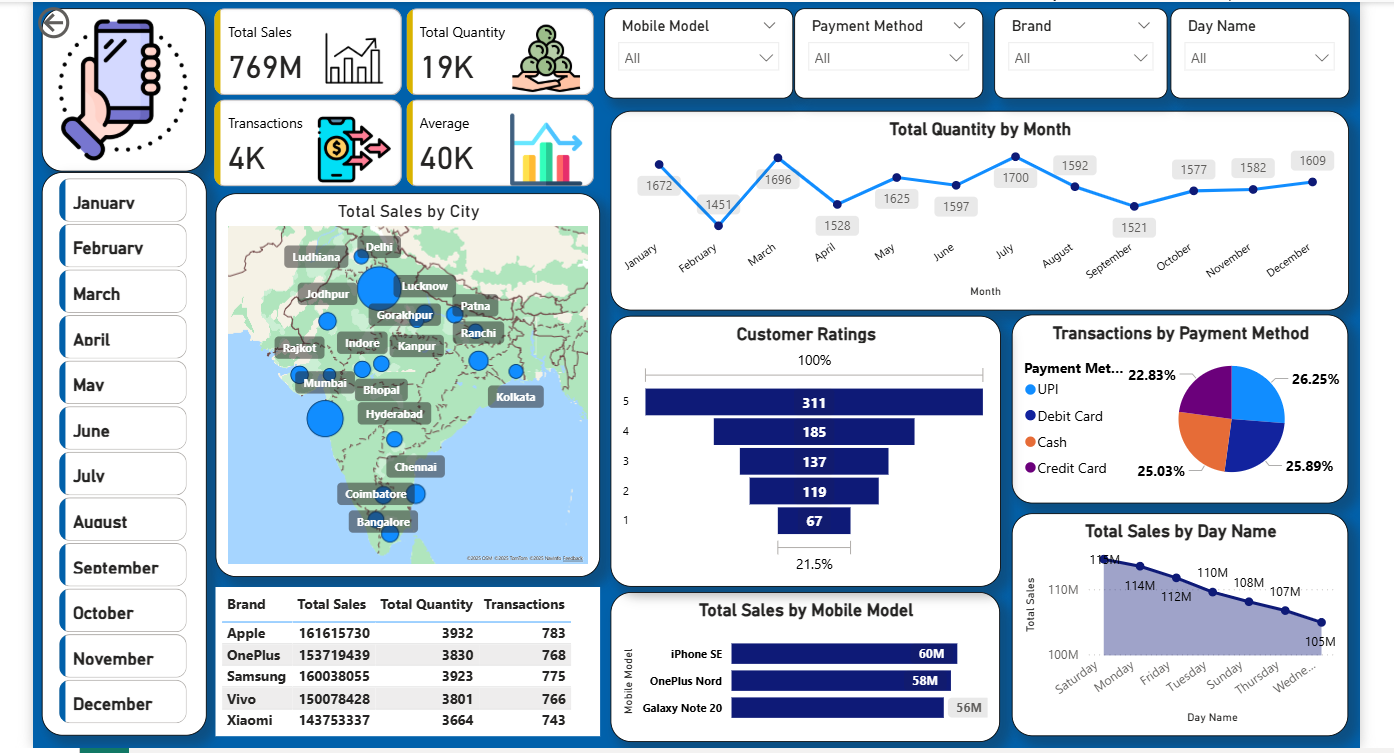

What the dashboard file says about the page in this screenshot:
{"tool":"powerbi","page":{"name":"Page 1","canvas":[1280,720],"ordinal":0},"visuals":[{"type":"shape","box":[8.8,6.2,158.8,157.5],"z":0},{"type":"shape","box":[8.4,164.1,159.3,544.1],"z":2000},{"type":"advancedSlicerVisual","fields":{"Values":["Sales Data.Date.Variation.Date Hierarchy.Month"]},"box":[20.5,165.3,133.9,544.1],"z":3000},{"type":"cardVisual","fields":{"Data":["Sales Data.Total Sales","Sales Data.Total Quantity","Sales Data.Transactions","Sales Data.Average"]},"box":[170.1,1.2,377.6,183.4],"z":4000},{"type":"azureMap","fields":{"Category":["Sales Data.City"],"Size":["Sales Data.Total Sales"]},"box":[176.2,185,371.2,370],"z":5000},{"type":"lineChart","fields":{"Category":["Sales Data.Date.Variation.Date Hierarchy.Month","Sales Data.Date.Variation.Date Hierarchy.Day"],"Y":["Sales Data.Total Quantity"]},"box":[557.5,105,712.5,192.5],"z":6000},{"type":"clusteredBarChart","fields":{"Category":["Sales Data.Mobile Model"],"Y":["Sales Data.Total Sales"]},"box":[557.5,570,376.2,145],"z":7000},{"type":"pieChart","fields":{"Category":["Sales Data.Payment Method"],"Y":["Sales Data.Transactions"]},"box":[945,301.2,325,182.5],"z":8000},{"type":"funnel","title":"Customer Ratings","fields":{"Category":["Sales Data.Customer Ratings"],"Y":["CountNonNull(Sales Data.Customer Ratings)"]},"box":[557.4,302.8,376.4,261.8],"z":9000},{"type":"areaChart","fields":{"Category":["Sales Data.Day Name"],"Y":["Sales Data.Total Sales"]},"box":[945,493.8,325,215],"z":10000},{"type":"tableEx","fields":{"Values":["Sales Data.Brand","Sales Data.Total Sales","Sales Data.Total Quantity","Sales Data.Transactions"]},"box":[176.2,565,371.2,143.8],"z":11000},{"type":"actionButton","box":[0,0,100,40],"z":12000},{"type":"slicer","fields":{"Values":["Sales Data.Mobile Model"]},"box":[551.2,6.2,182.5,87.5],"z":13000},{"type":"slicer","fields":{"Values":["Sales Data.Payment Method"]},"box":[735,6.2,182.5,87.5],"z":14000},{"type":"slicer","fields":{"Values":["Sales Data.Brand"]},"box":[927.5,6.2,167.5,87.5],"z":15000},{"type":"slicer","fields":{"Values":["Sales Data.Day Name"]},"box":[1097.5,6.2,172.5,87.5],"z":16000},{"type":"image","box":[13.3,12.1,147.2,146],"z":17501}]}

Visuals, with their boxes in screenshot pixels (x1, y1, x2, y2):
shape: select_region(45, 6, 209, 168)
shape: select_region(45, 169, 209, 729)
advancedSlicerVisual - Sales Data.Date.Variation.Date Hierarchy.Month: select_region(57, 170, 195, 730)
cardVisual - Sales Data.Total Sales x Sales Data.Total Quantity: select_region(211, 1, 600, 190)
azureMap - Sales Data.City x Sales Data.Total Sales: select_region(218, 190, 600, 571)
lineChart - Sales Data.Date.Variation.Date Hierarchy.Month x Sales Data.Date.Variation.Date Hierarchy.Day: select_region(610, 108, 1343, 306)
clusteredBarChart - Sales Data.Mobile Model x Sales Data.Total Sales: select_region(610, 587, 997, 736)
pieChart - Sales Data.Payment Method x Sales Data.Transactions: select_region(1009, 310, 1343, 498)
"Customer Ratings" funnel: select_region(610, 312, 997, 581)
areaChart - Sales Data.Day Name x Sales Data.Total Sales: select_region(1009, 508, 1343, 730)
tableEx - Sales Data.Brand x Sales Data.Total Sales: select_region(218, 582, 600, 730)
actionButton: select_region(36, 0, 139, 41)
slicer - Sales Data.Mobile Model: select_region(604, 6, 791, 96)
slicer - Sales Data.Payment Method: select_region(793, 6, 981, 96)
slicer - Sales Data.Brand: select_region(991, 6, 1163, 96)
slicer - Sales Data.Day Name: select_region(1166, 6, 1343, 96)
image: select_region(50, 12, 201, 163)
